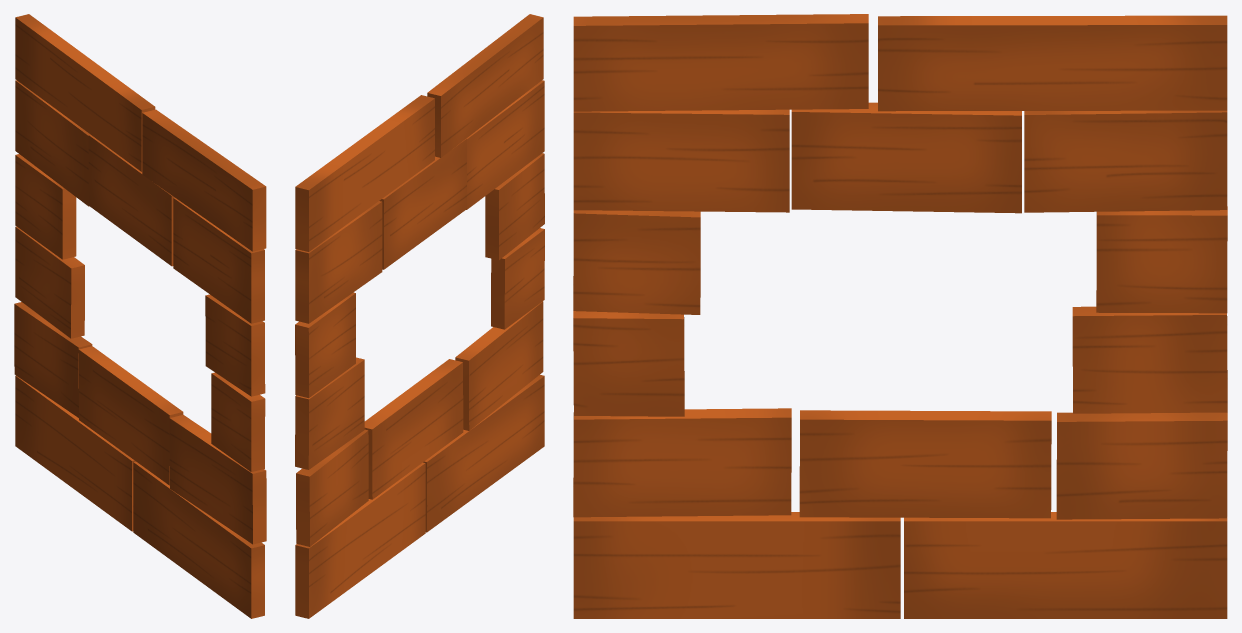
Rendered from PAREDE JANELA.fbx.
3 views of the same model, side by side, from view 1: azimuth 30°, elevation 25°; view 2: azimuth 150°, elevation 25°; view 3: azimuth 270°, elevation 25° (orthographic). The views are drawn at different scales.
Visible parts, largest first — view 1: PAREDE_JANELA; view 2: PAREDE_JANELA; view 3: PAREDE_JANELA.
Part boxes in pixels (<box>): PAREDE_JANELA: <box>14,14,266,618</box>; PAREDE_JANELA: <box>295,14,544,618</box>; PAREDE_JANELA: <box>573,14,1227,618</box>.
Bounding box in the file's own units: 10.44 × 200 × 200.
1 material, 1 textured.
